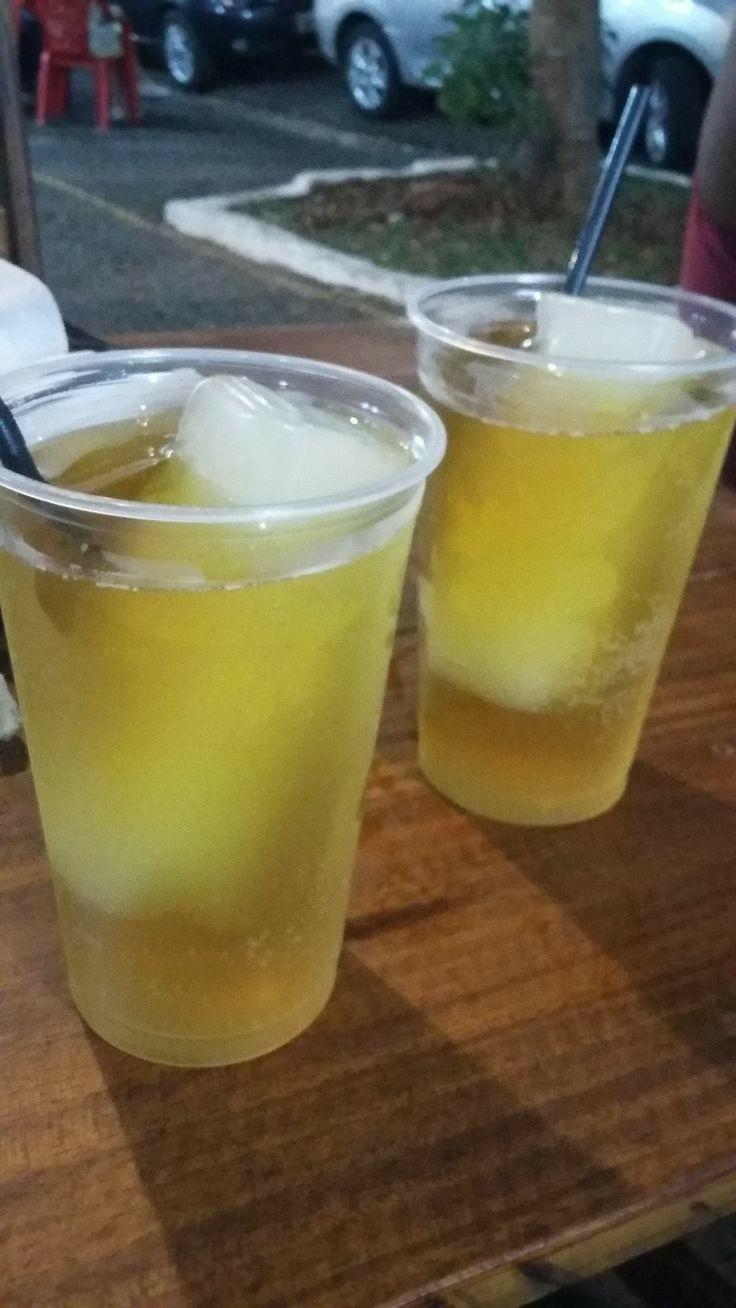cup-disposable: (0, 344, 449, 1071), (402, 270, 735, 830)
